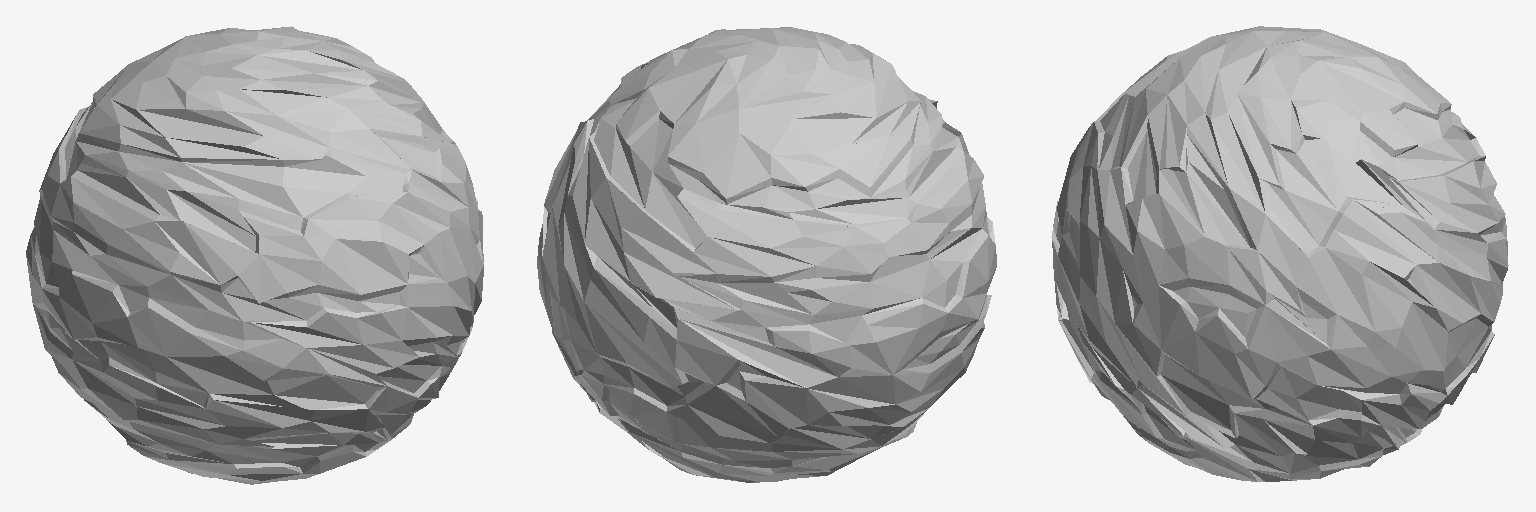
The model's file is jupiter.obj.
The picture shows the model from 3 angles: view 1: azimuth 30°, elevation 25°; view 2: azimuth 150°, elevation 25°; view 3: azimuth 270°, elevation 25°; orthographic projection.
Parts seen in each view (by area): view 1: Jupiter.001; view 2: Jupiter.001; view 3: Jupiter.001.
Boxes of the visible parts, x1=… form: Jupiter.001: x1=26, y1=26, x2=483, y2=484; Jupiter.001: x1=537, y1=27, x2=996, y2=482; Jupiter.001: x1=1051, y1=26, x2=1508, y2=481.
Bounding box in the file's own units: 8.07 × 8.13 × 8.09.